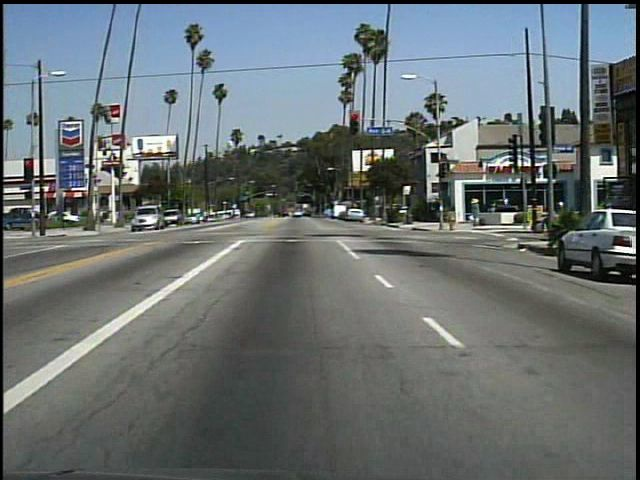person: (547, 194, 571, 235), (467, 193, 483, 227)
